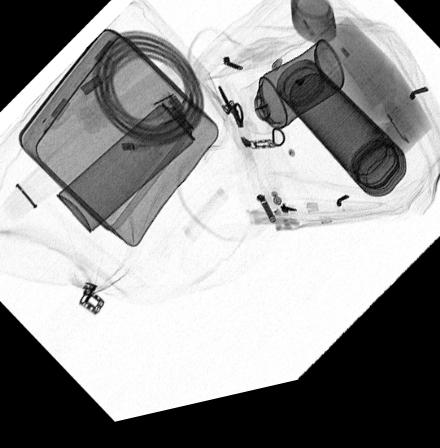Sprayer: (57, 94, 215, 236), (237, 54, 345, 146)
